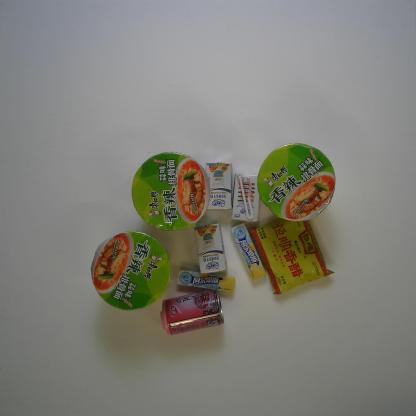Candy: (231, 224, 266, 282), (176, 270, 236, 294)
Canned Food: (159, 288, 225, 336)
Instant Noodles: (90, 230, 171, 312), (131, 150, 210, 232), (256, 143, 336, 222)
Milk: (193, 222, 227, 274), (231, 172, 261, 223), (204, 161, 234, 211)
Seasoner: (248, 214, 335, 296)
